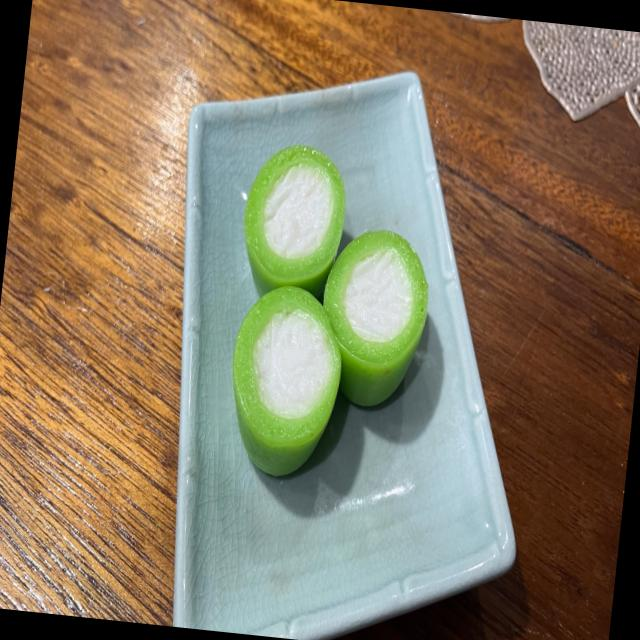nona-manis: (232, 285, 341, 476), (323, 230, 428, 406), (243, 145, 345, 296)
